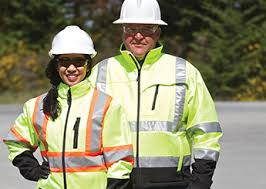Hard Hat: (109, 1, 170, 26), (47, 25, 96, 56)
High Viz: (96, 54, 199, 165), (28, 87, 109, 184)
